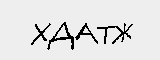А: (74, 21, 97, 44)
Д: (45, 18, 73, 51)
Ж: (110, 20, 132, 46)
М: (97, 23, 115, 43)
Х: (27, 18, 49, 45)
